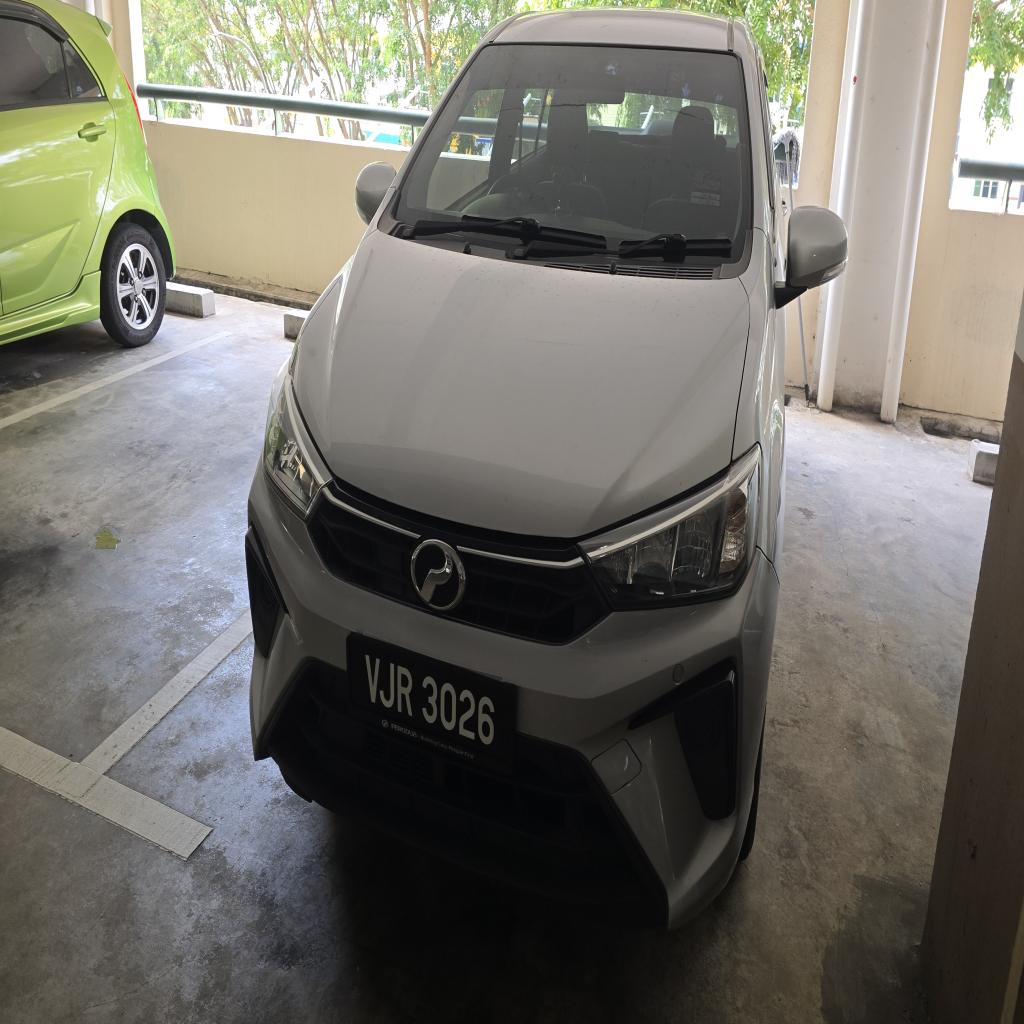car: (247, 10, 846, 926)
car plate: (347, 634, 516, 765)
